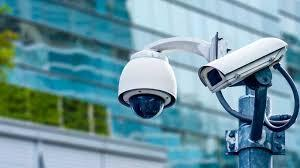Monitor: (111, 19, 299, 144)
